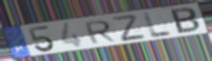4: (61, 21, 86, 49)
5: (26, 24, 56, 53)
B: (169, 7, 202, 35)
L: (142, 11, 175, 39)
R: (83, 19, 118, 45)
Z: (110, 14, 148, 43)
